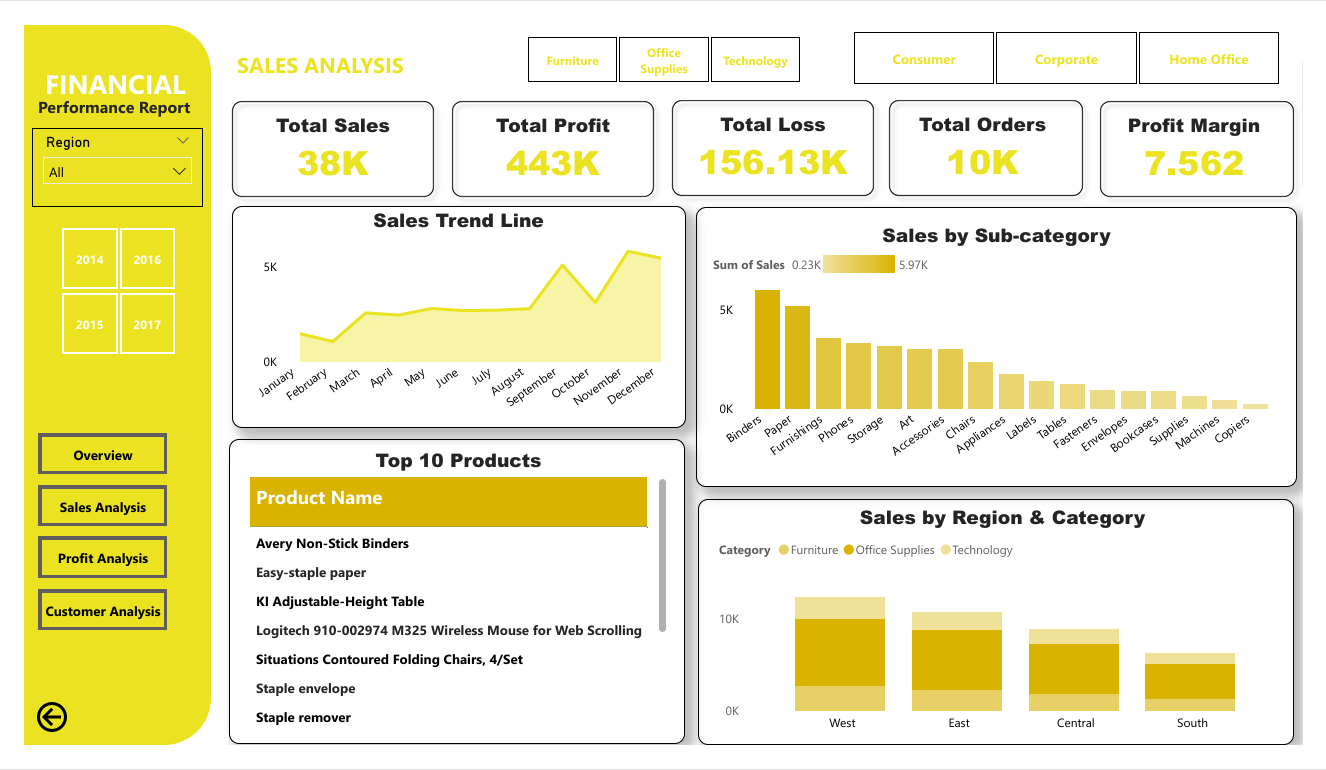

What the dashboard file says about the page in this screenshot:
{"tool":"powerbi","page":{"name":"Sales Analysis","canvas":[1280,720],"ordinal":1},"visuals":[{"type":"shape","box":[673.1,181.9,601.1,280.1],"z":0},{"type":"shape","box":[1,0,186.7,719.8],"z":1000},{"type":"textbox","box":[16.5,35,154.7,49.6],"z":2000},{"type":"shape","box":[640,66.1,219.9,113.8],"z":2500,"group":"g3"},{"type":"shape","box":[856.9,66.1,212,113.8],"z":2500,"group":"g4"},{"type":"shape","box":[200.4,67.1,220,113.8],"z":2500,"group":"g1"},{"type":"shape","box":[420.2,67.1,219.9,113.8],"z":2500,"group":"g2"},{"type":"shape","box":[1068,67.1,212,113.8],"z":2500,"group":"g5"},{"type":"textbox","box":[9.7,66.1,173.1,37],"z":3000},{"type":"card","title":"Total Orders","fields":{"Values":["CountNonNull(Sample - Superstore.Order ID)"]},"box":[857.9,85.4,203.4,75.9],"z":3000,"group":"g4"},{"type":"card","title":"Total Loss","fields":{"Values":["Sample - Superstore.Total Loss"]},"box":[640,85.6,219.9,75.9],"z":3000,"group":"g3"},{"type":"card","title":"Profit Margin","fields":{"Values":["Sample - Superstore.Profit Margin %"]},"box":[1068.7,86.4,204.3,75.9],"z":3000,"group":"g5"},{"type":"card","title":"Total Sales","fields":{"Values":["Sum(Sample - Superstore.Sales)"]},"box":[200.4,86.6,220,75.9],"z":3000,"group":"g1"},{"type":"card","title":"Total Profit","fields":{"Values":["Sample - Superstore.Total Profit"]},"box":[420.2,86.6,219.9,75.9],"z":3000,"group":"g2"},{"type":"group","id":"g1","title":"Group 1","box":[200.4,67.1,219.8,113.8],"z":4000},{"type":"group","id":"g2","title":"Group 1","box":[420.2,67.1,219.8,113.8],"z":5000},{"type":"shape","box":[206,414,456.2,305.4],"z":5000,"group":"g8"},{"type":"group","id":"g3","title":"Group 1","box":[640,66.1,219.8,113.8],"z":6000},{"type":"group","id":"g4","title":"Group 1","box":[856.9,66.1,219.8,113.8],"z":7000},{"type":"group","id":"g5","title":"Group 1","box":[1068,67.1,212,113.8],"z":8000},{"type":"textbox","box":[209.1,20.4,186.7,46.7],"z":9000},{"type":"shape","box":[209.1,180.9,454.2,221.8],"z":9000,"group":"g6"},{"type":"lineChart","title":"Sales Trend Line","fields":{"Y":["Sum(Sample - Superstore.Sales)"],"Category":["Sample - Superstore.Order Date.Variation.Date Hierarchy.Month"]},"box":[215.5,180.9,440.6,221.8],"z":10000,"group":"g6"},{"type":"group","id":"g6","title":"Group 2","box":[209.1,180.9,454.2,221.8],"z":11000},{"type":"shape","box":[675,473.7,596.2,246.1],"z":11000,"group":"g7"},{"type":"slicer","fields":{"Values":["Sample - Superstore.Region"]},"box":[8.8,103.1,171.2,78.8],"z":12000},{"type":"columnChart","title":"Sales by Region & Category","fields":{"Y":["Sum(Sample - Superstore.Sales)"],"Category":["Sample - Superstore.Region"],"Series":["Sample - Superstore.Category"]},"box":[690.6,477.6,577.8,238.3],"z":12000,"group":"g7"},{"type":"slicer","fields":{"Values":["Sample - Superstore.Category"]},"box":[478.5,4.9,322.9,59.3],"z":13000},{"type":"slicer","fields":{"Values":["Sample - Superstore.Segment"]},"box":[805.3,0,474.7,66.1],"z":14000},{"type":"slicer","fields":{"Values":["Sample - Superstore.Order Date.Variation.Date Hierarchy.Year"]},"box":[12.6,195.5,163.4,140.1],"z":15000},{"type":"actionButton","box":[16.2,460.6,128.3,40.4],"z":16000},{"type":"actionButton","box":[16.2,409.1,128.3,40.4],"z":17000},{"type":"actionButton","box":[16.2,512.1,128.3,40.4],"z":18000},{"type":"actionButton","box":[16.2,564.6,128.3,40.4],"z":19000},{"type":"actionButton","box":[8.8,672.1,100.2,39.9],"z":20000},{"type":"group","id":"g7","title":"Group 3","box":[675,473.7,596.2,246.1],"z":21000},{"type":"group","id":"g8","title":"Group 4","box":[206,414,456.2,305.4],"z":22000},{"type":"columnChart","title":"Sales by Sub-category","fields":{"Category":["Sample - Superstore.Sub-Category"],"Y":["Sum(Sample - Superstore.Sales)"]},"box":[684.7,195.5,576.8,255.8],"z":22500},{"type":"tableEx","title":"Top 10 Products","fields":{"Values":["Sample - Superstore.Product Name"]},"box":[221.6,420.8,427,286],"z":24000,"group":"g8"}]}

Visuals, with their boxes on the page's 1280x720 design canvas (x1, y1, x2, y2). These are canvas units, not pixel positions in the 1326x770 screenshot, which may show the page scaled, cropped or inside an application window:
shape: <region>673, 182, 1274, 462</region>
shape: <region>1, 0, 188, 720</region>
textbox: <region>16, 35, 171, 85</region>
shape: <region>640, 66, 860, 180</region>
shape: <region>857, 66, 1069, 180</region>
shape: <region>200, 67, 420, 181</region>
shape: <region>420, 67, 640, 181</region>
shape: <region>1068, 67, 1280, 181</region>
textbox: <region>10, 66, 183, 103</region>
"Total Orders" card: <region>858, 85, 1061, 161</region>
"Total Loss" card: <region>640, 86, 860, 162</region>
"Profit Margin" card: <region>1069, 86, 1273, 162</region>
"Total Sales" card: <region>200, 87, 420, 162</region>
"Total Profit" card: <region>420, 87, 640, 162</region>
"Group 1" group: <region>200, 67, 420, 181</region>
"Group 1" group: <region>420, 67, 640, 181</region>
shape: <region>206, 414, 662, 719</region>
"Group 1" group: <region>640, 66, 860, 180</region>
"Group 1" group: <region>857, 66, 1077, 180</region>
"Group 1" group: <region>1068, 67, 1280, 181</region>
textbox: <region>209, 20, 396, 67</region>
shape: <region>209, 181, 663, 403</region>
"Sales Trend Line" lineChart: <region>216, 181, 656, 403</region>
"Group 2" group: <region>209, 181, 663, 403</region>
shape: <region>675, 474, 1271, 720</region>
slicer - Sample - Superstore.Region: <region>9, 103, 180, 182</region>
"Sales by Region & Category" columnChart: <region>691, 478, 1268, 716</region>
slicer - Sample - Superstore.Category: <region>478, 5, 801, 64</region>
slicer - Sample - Superstore.Segment: <region>805, 0, 1280, 66</region>
slicer - Sample - Superstore.Order Date.Variation.Date Hierarchy.Year: <region>13, 196, 176, 336</region>
actionButton: <region>16, 461, 144, 501</region>
actionButton: <region>16, 409, 144, 450</region>
actionButton: <region>16, 512, 144, 552</region>
actionButton: <region>16, 565, 144, 605</region>
actionButton: <region>9, 672, 109, 712</region>
"Group 3" group: <region>675, 474, 1271, 720</region>
"Group 4" group: <region>206, 414, 662, 719</region>
"Sales by Sub-category" columnChart: <region>685, 196, 1262, 451</region>
"Top 10 Products" tableEx: <region>222, 421, 649, 707</region>
